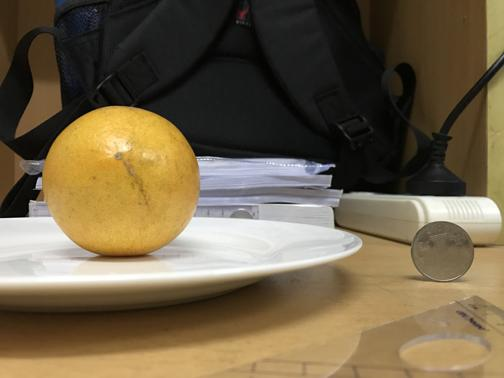coin: (409, 219, 474, 281)
orange: (48, 105, 199, 254)
